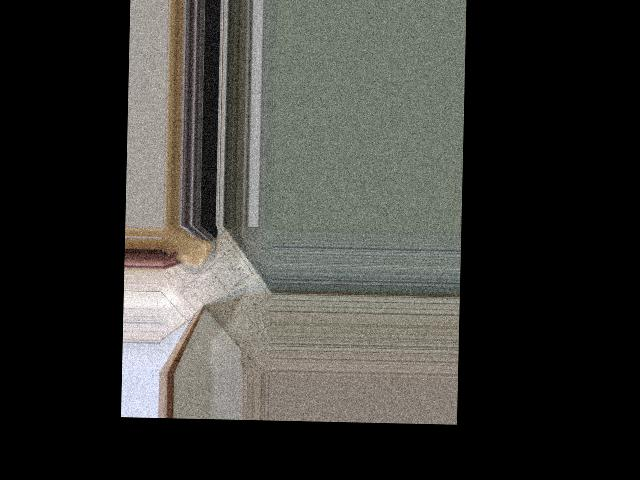cheese: (160, 223, 215, 273)
